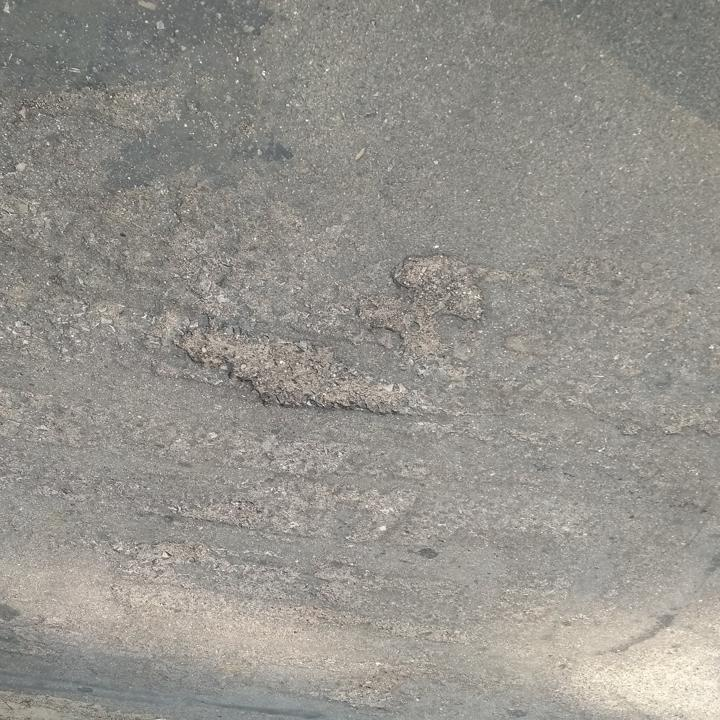pothole: (171, 324, 428, 420), (386, 251, 487, 324)
